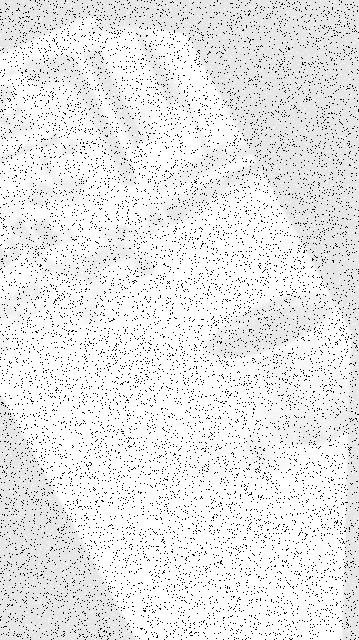pot: (202, 289, 351, 445)
